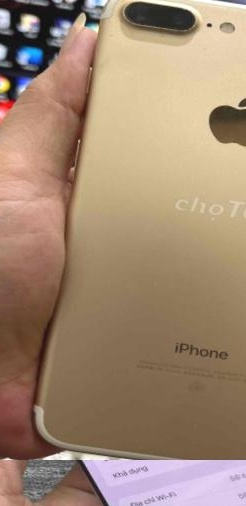scratch: (106, 10, 196, 52)
